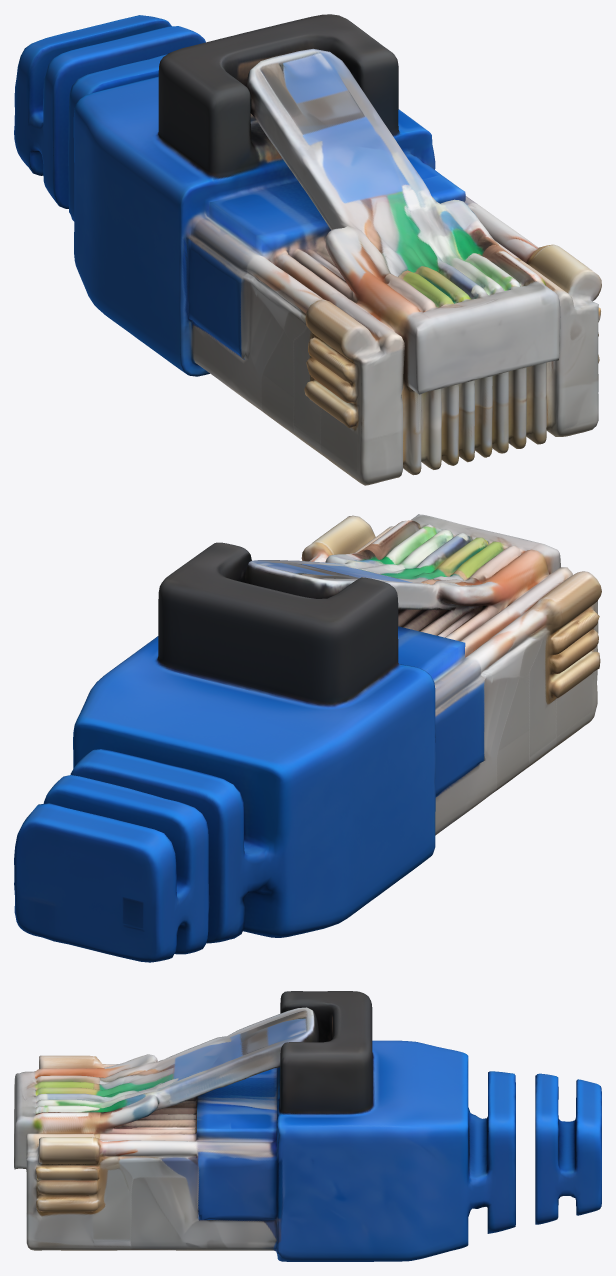
Rendered from blue_lan.fbx.
3 renders of one model, top to bottom at view 1: azimuth 30°, elevation 25°; view 2: azimuth 150°, elevation 25°; view 3: azimuth 270°, elevation 25°, orthographic. The views are drawn at different scales.
Parts seen in each view (by area): view 1: model.006; view 2: model.006; view 3: model.006.
Part boxes in pixels (x1=…): model.006: x1=14, y1=14, x2=601, y2=485; model.006: x1=14, y1=514, x2=601, y2=962; model.006: x1=14, y1=991, x2=601, y2=1261.
Bounding box in the file's own units: 43.1 × 44 × 116.
1 material, 1 textured.
